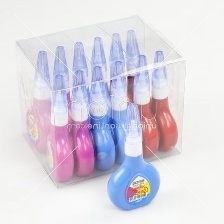book: (11, 12, 189, 192)
correction_fluid: (105, 100, 164, 213), (41, 43, 80, 149), (124, 53, 162, 160), (118, 27, 154, 132), (102, 59, 137, 166), (145, 48, 180, 155), (63, 38, 98, 143), (44, 73, 77, 182), (85, 65, 118, 174), (23, 48, 56, 155), (67, 69, 98, 179), (102, 30, 134, 135), (86, 34, 114, 139)
